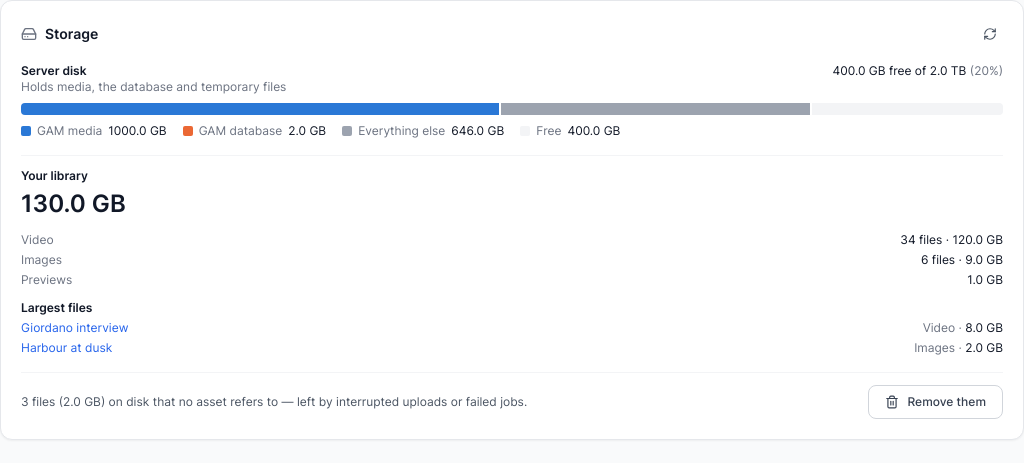
Test case: StoragePanel › removes stray files only after asking
This screenshot has width=1024, height=463.
Expected: the text "3 files (2.0 GB) on disk that no asset refers to" is shown, [21, 394, 527, 410]
Click the button "Remove them" at (936, 402), box [868, 385, 1003, 419]
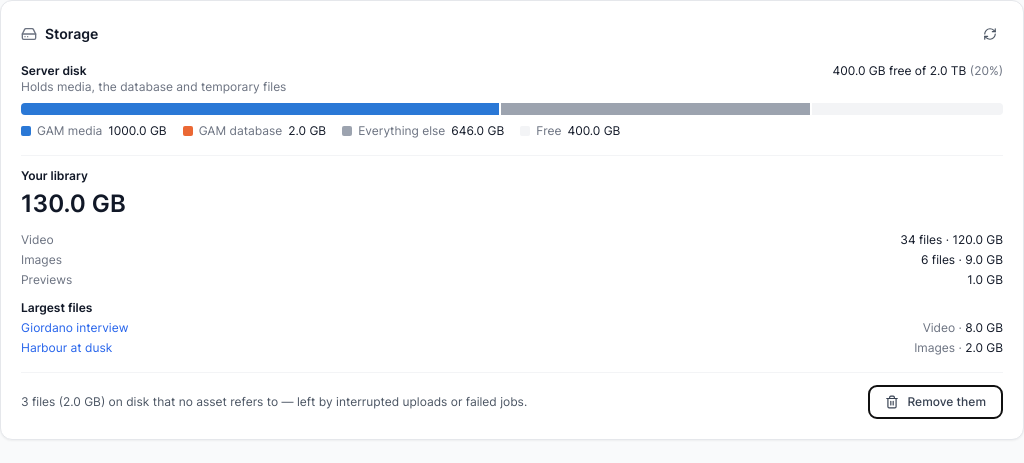
Click the button "Remove them" at (936, 402), box [868, 385, 1003, 419]
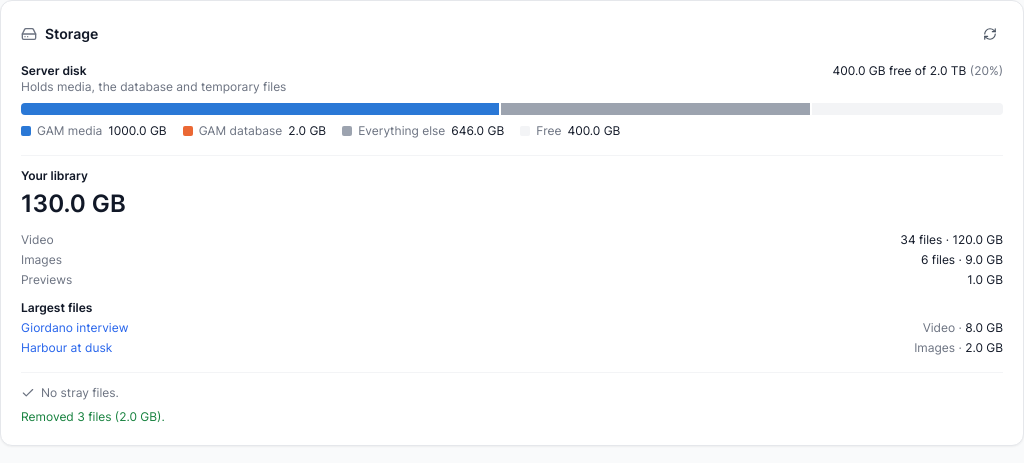
Now the text "Removed 3 files (2.0 GB)." is shown, box [21, 409, 165, 424]
Now the text "No stray files." is shown, box [21, 385, 119, 400]
